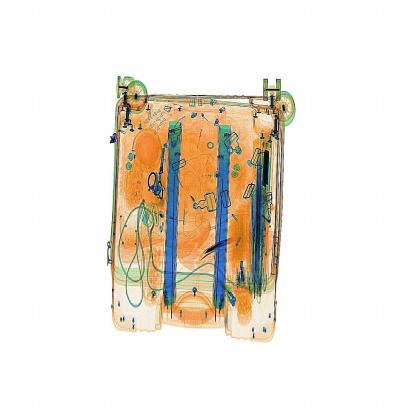wrench: (190, 230, 234, 258)
